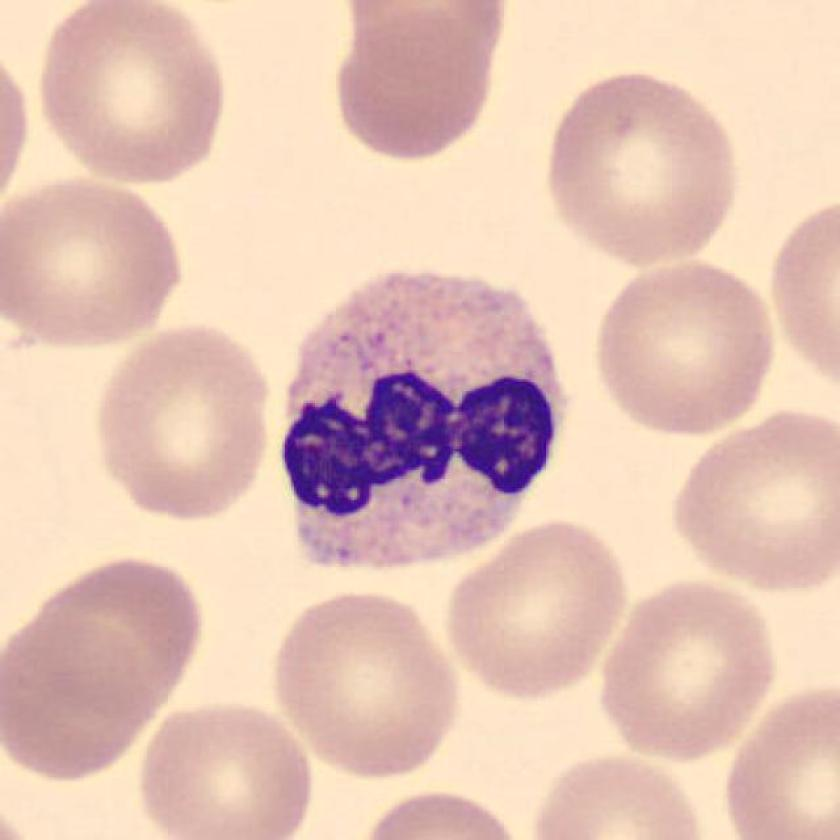neutrophil: (283, 270, 568, 568)
